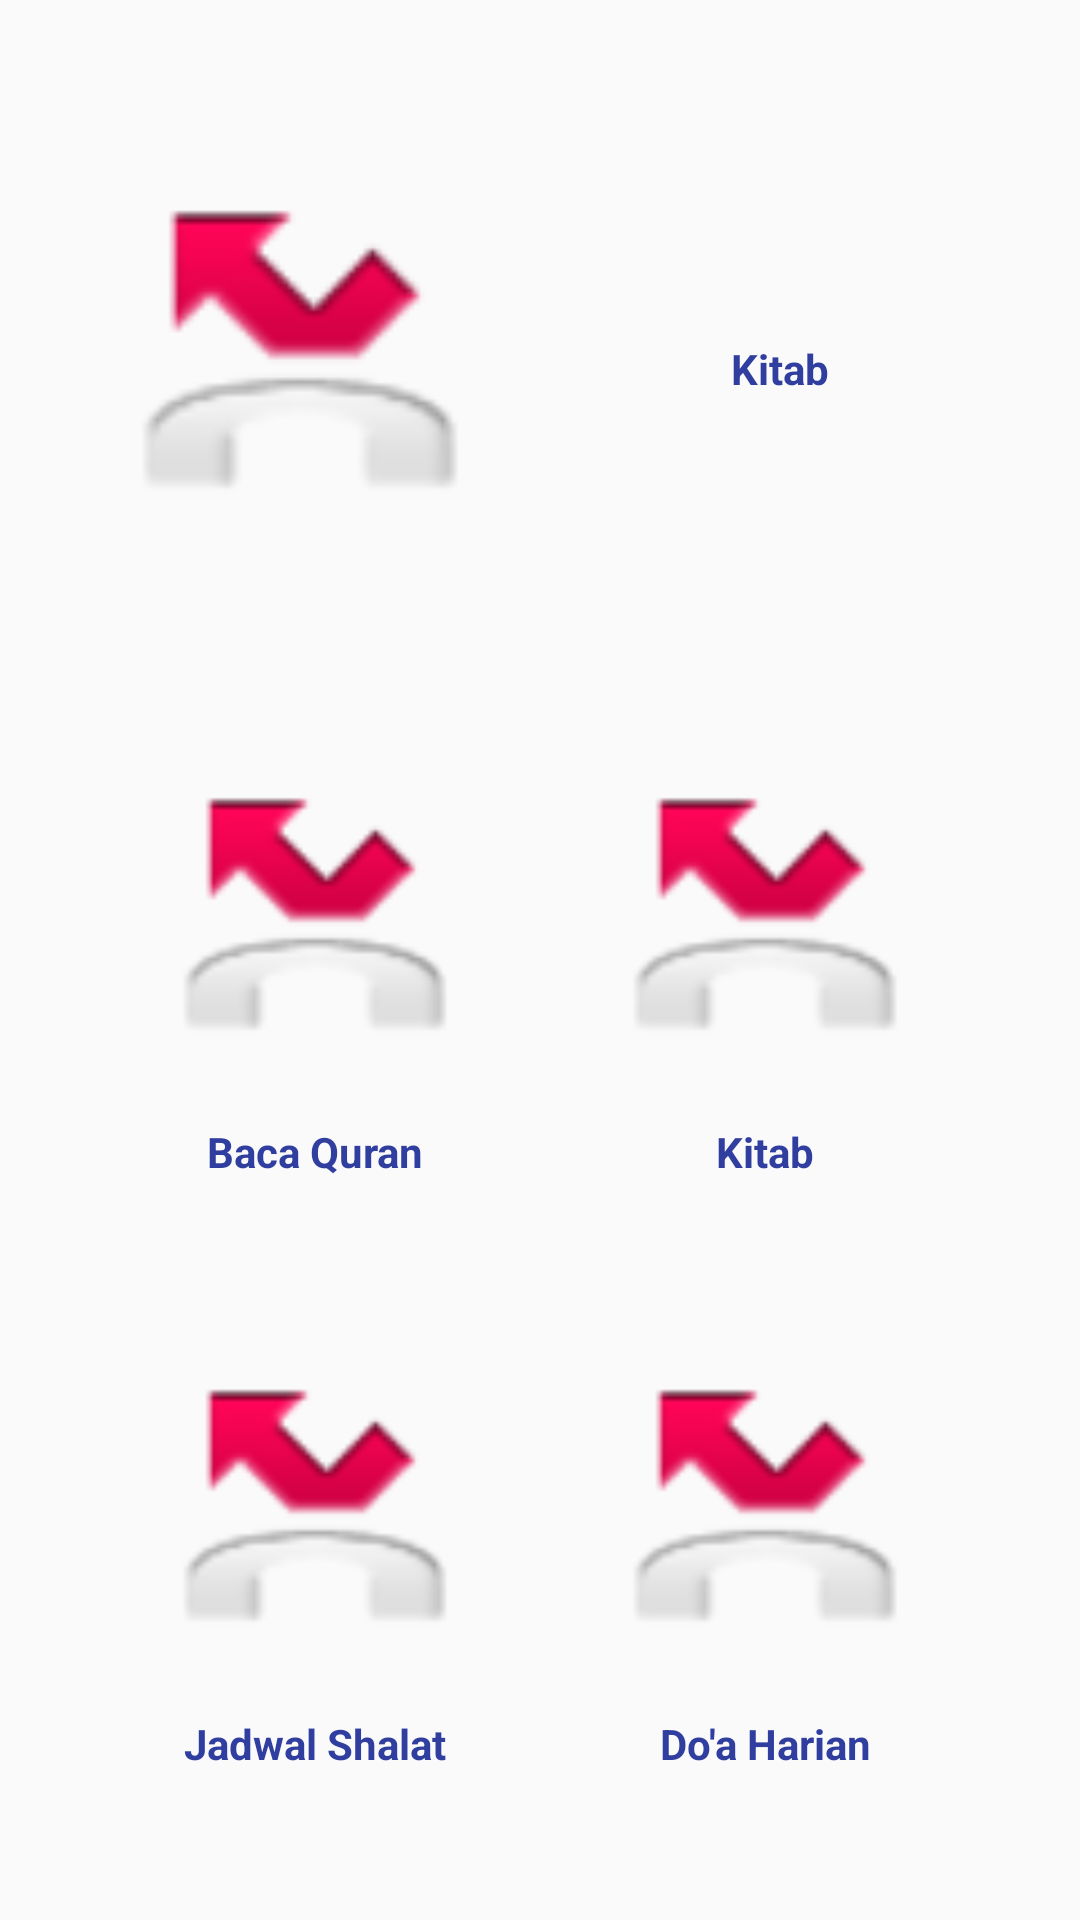

Point at icon controls on the screen. Image size 1080x1920, points as (x,y).
sym call missed: (301,348), (316,912), (766,912), (316,1504), (766,1504)
